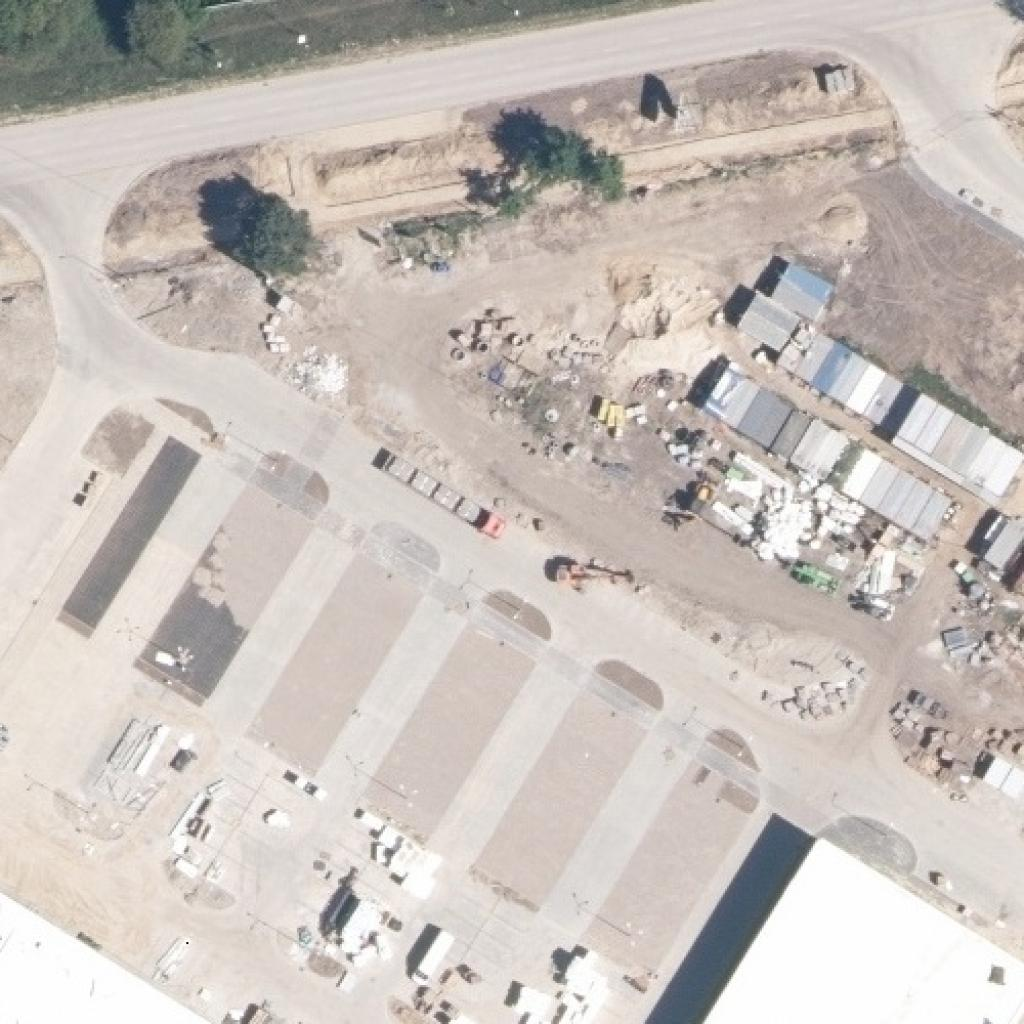ciezarowka: (377, 446, 510, 546)
koparka: (550, 558, 636, 597), (793, 561, 839, 593)
samochod_osobowy: (411, 929, 460, 990)
spychacz: (687, 477, 716, 515)
